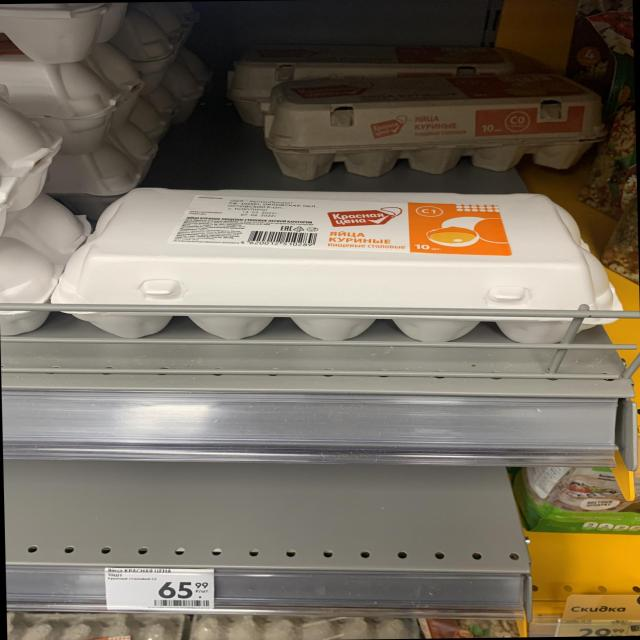organic waste: (42, 180, 628, 352), (252, 72, 608, 180)
